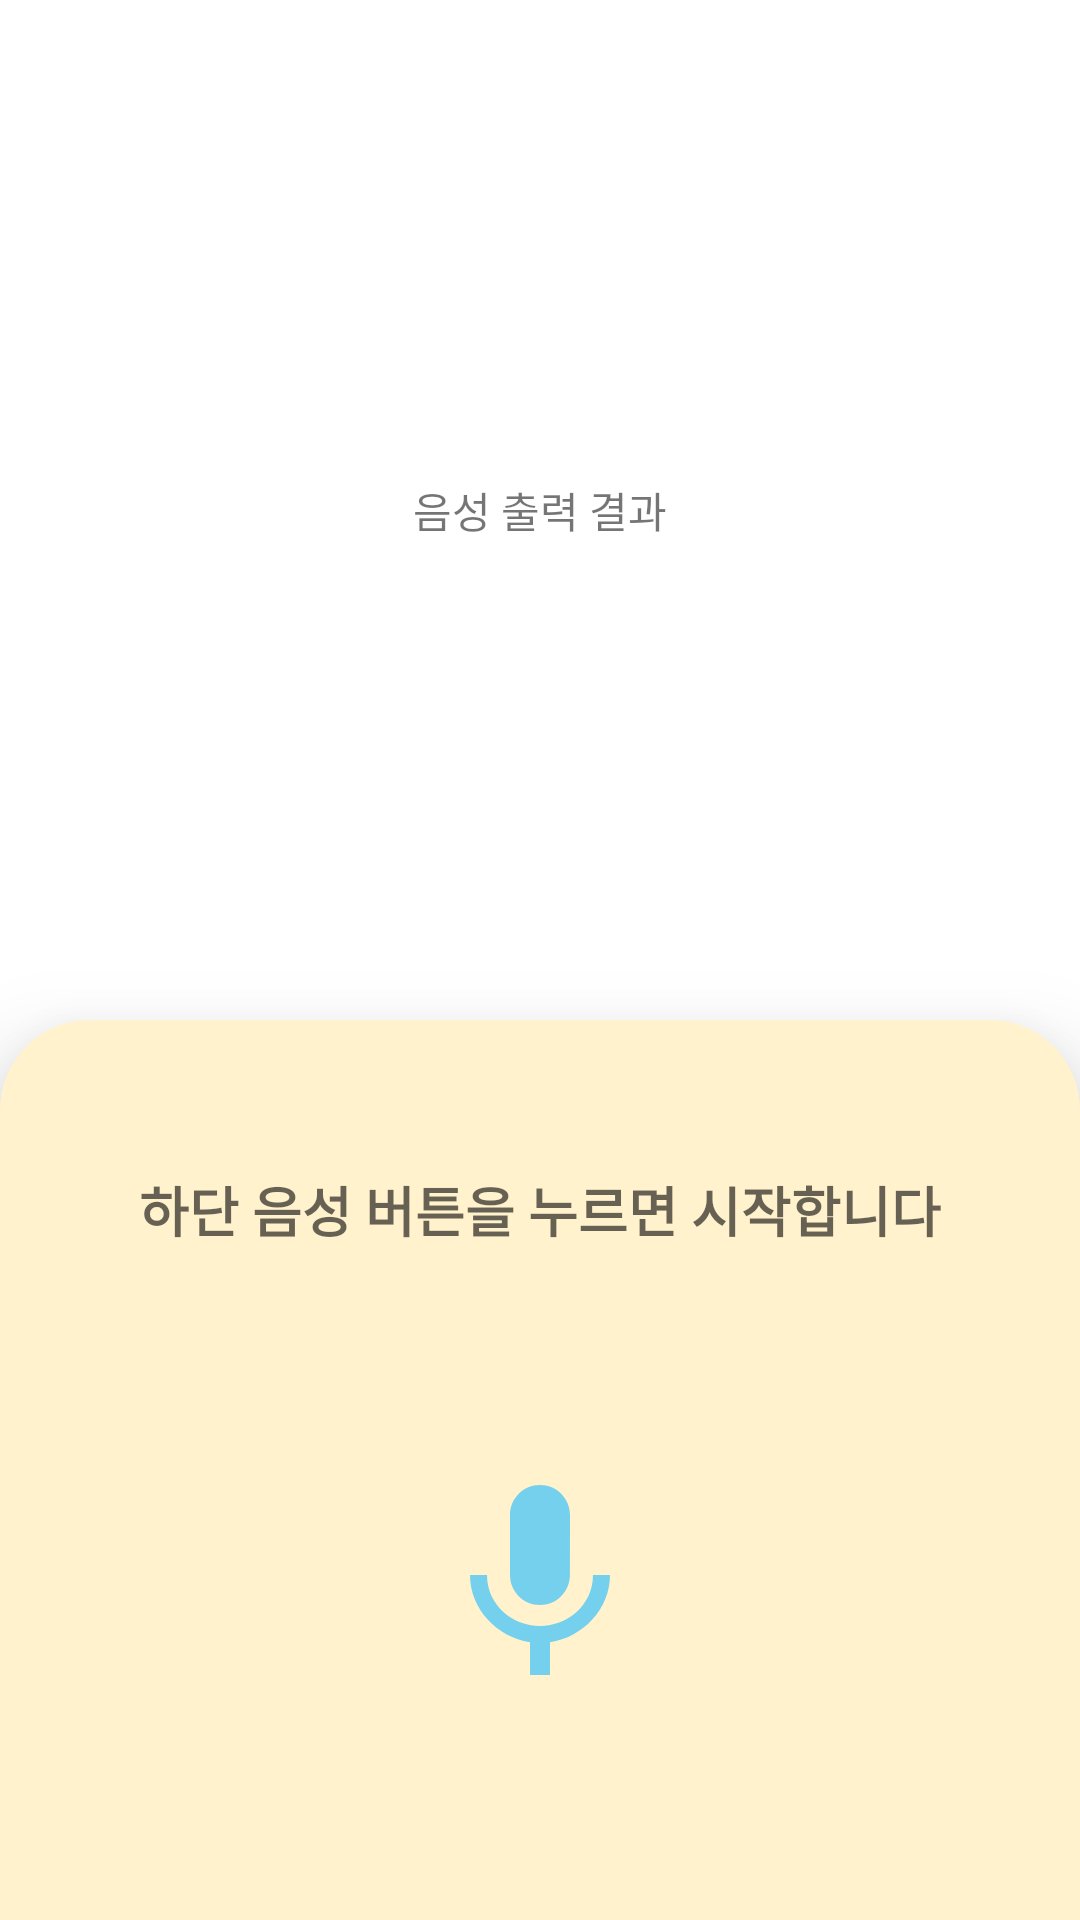

Icons on this 1080 × 1920 Android screen, each with the point to tap as [x,y]:
mic: [540,1580]
